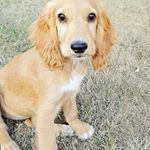puppy: (25, 1, 120, 143)
